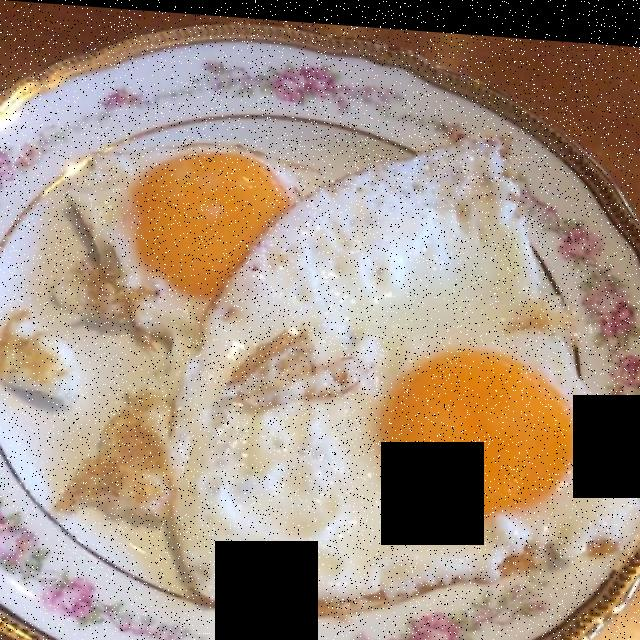egg: (58, 143, 630, 599)
